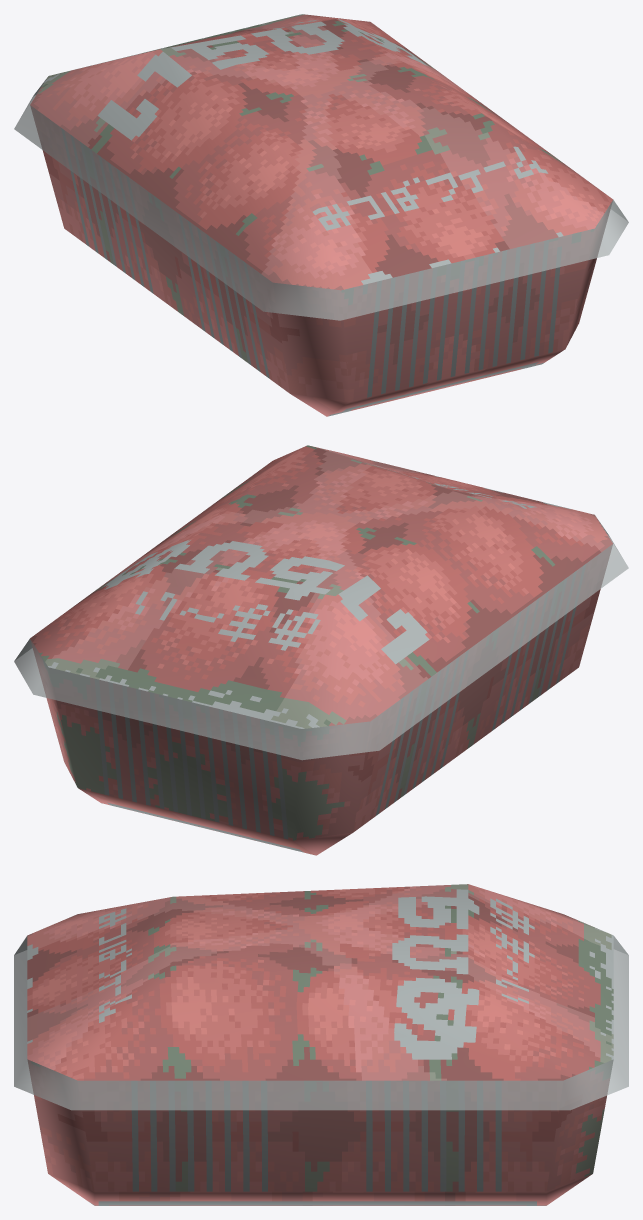
File: 04cf_Strawberry_Pack.glb
The picture shows the model from 3 angles, top to bottom: view 1: azimuth 30°, elevation 25°; view 2: azimuth 150°, elevation 25°; view 3: azimuth 270°, elevation 25°; orthographic projection.
Visible parts, largest first — view 1: part_0; view 2: part_0; view 3: part_0.
Boxes of the visible parts, x1,y1,x2,y2 form: part_0: [14, 14, 628, 416]; part_0: [14, 445, 628, 855]; part_0: [14, 884, 628, 1205].
Size of the model in its own units: 0.1259 by 0.0744 by 0.1832.
Materials: 1 (1 with a texture image).
